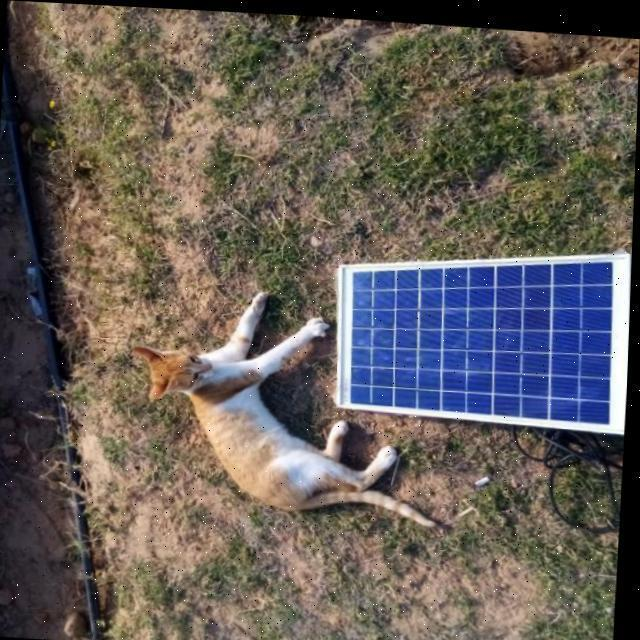Normal Solar Panel: (332, 230, 634, 426)
